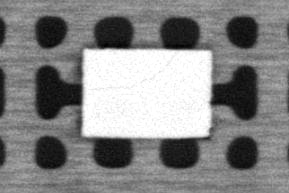DIE_CRACK: (87, 51, 176, 90)
